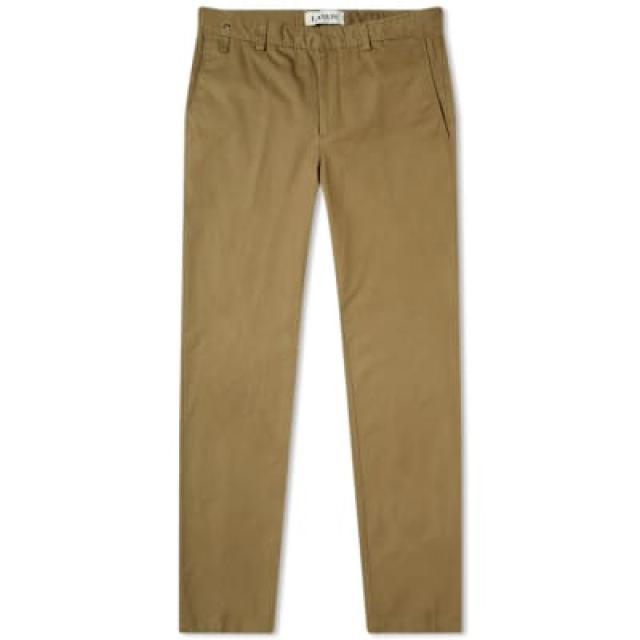long-pants: (179, 8, 474, 638)
